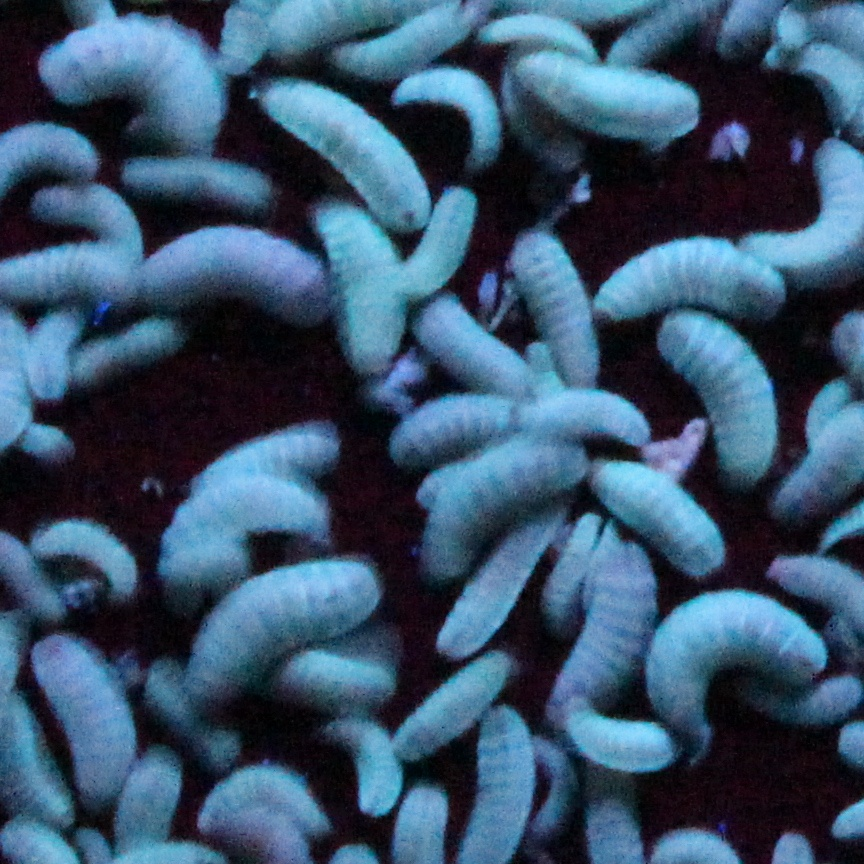larve: (182, 539, 392, 712), (26, 6, 230, 163), (254, 67, 431, 227), (644, 298, 792, 488), (633, 585, 826, 719), (22, 631, 144, 826), (418, 442, 585, 583), (589, 229, 797, 335), (507, 40, 715, 140), (146, 226, 340, 329), (579, 453, 740, 572), (438, 498, 551, 665), (502, 225, 608, 396), (177, 419, 356, 506), (387, 648, 518, 760), (418, 299, 544, 404), (561, 688, 687, 785), (395, 172, 485, 303), (118, 144, 281, 216), (321, 705, 411, 833), (400, 67, 520, 163), (31, 509, 140, 604)
